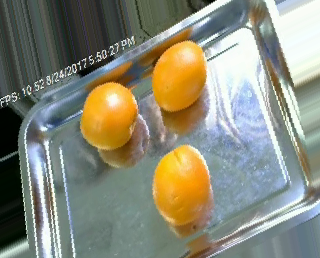Orange: (151, 144, 210, 224), (79, 80, 139, 150), (152, 40, 208, 112)
